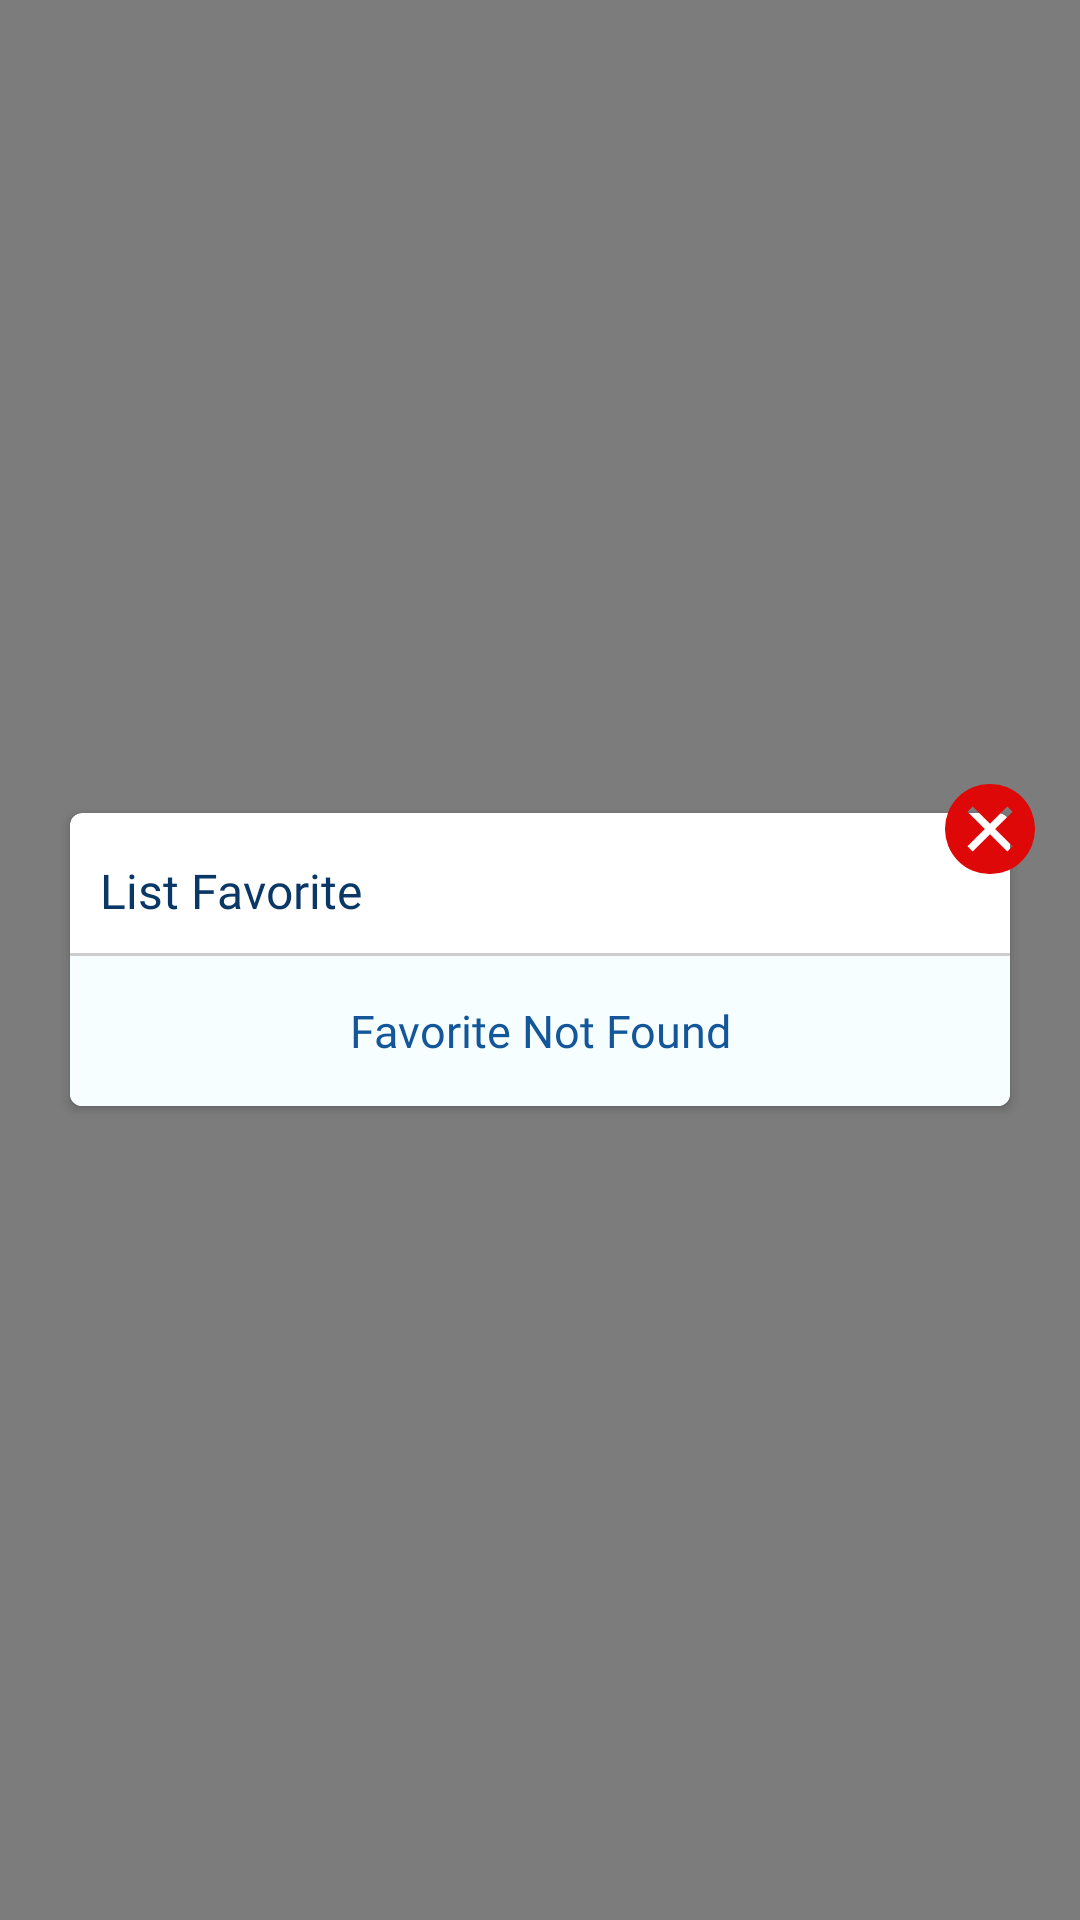

Icon click points for this 1080px x 1920px phone screenshot, format [x,y]:
clear: [990,829]
